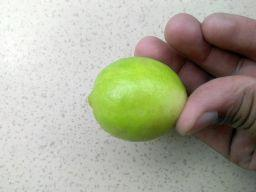lemon: (74, 44, 198, 146)
